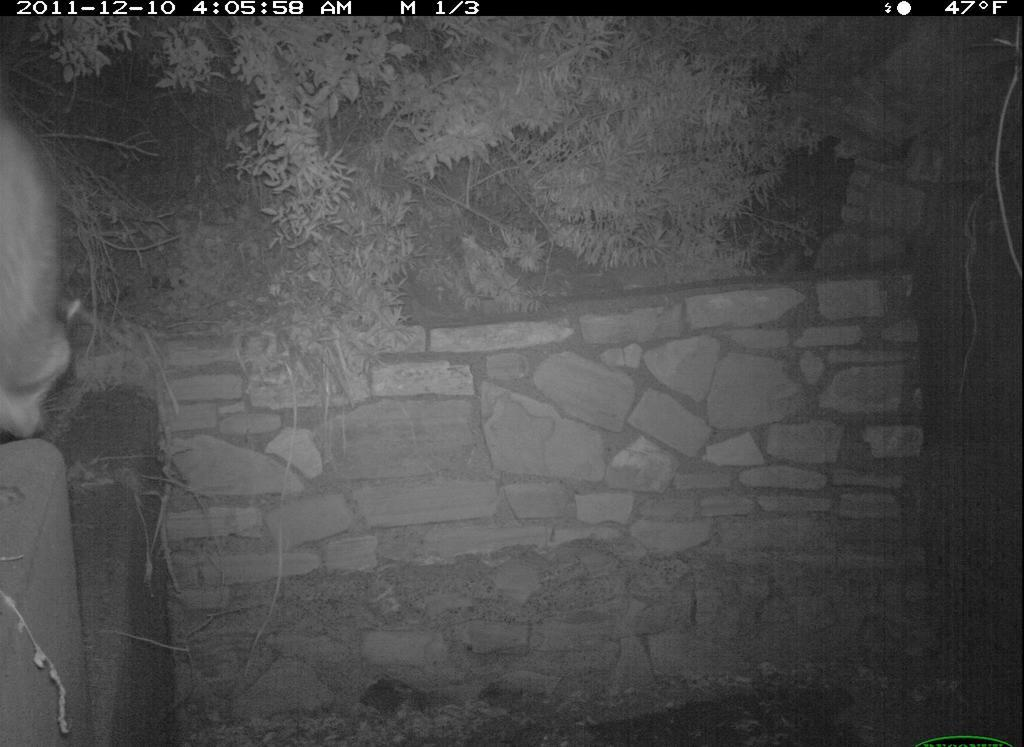raccoon: (1, 100, 93, 440)
